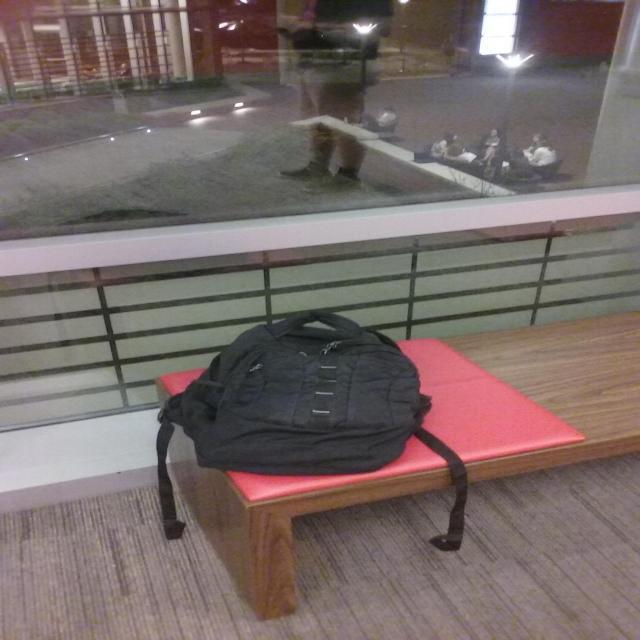Backpacks: (160, 290, 447, 485)
